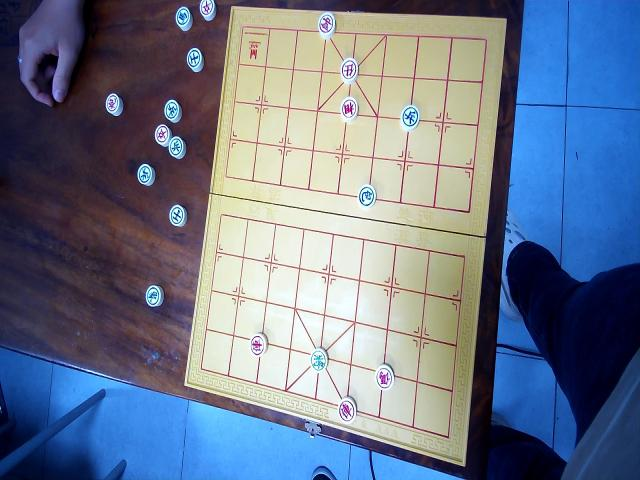piece: (375, 363, 395, 391), (337, 396, 357, 424), (400, 104, 420, 130), (318, 12, 336, 40), (144, 284, 164, 308), (186, 46, 204, 72), (340, 58, 358, 84), (310, 347, 328, 373), (340, 97, 358, 122), (357, 183, 375, 208), (175, 6, 192, 32), (154, 123, 172, 147), (164, 98, 182, 122), (168, 135, 186, 159), (168, 204, 186, 228), (250, 333, 268, 357), (105, 92, 123, 115), (137, 163, 155, 186), (198, 0, 215, 21)
